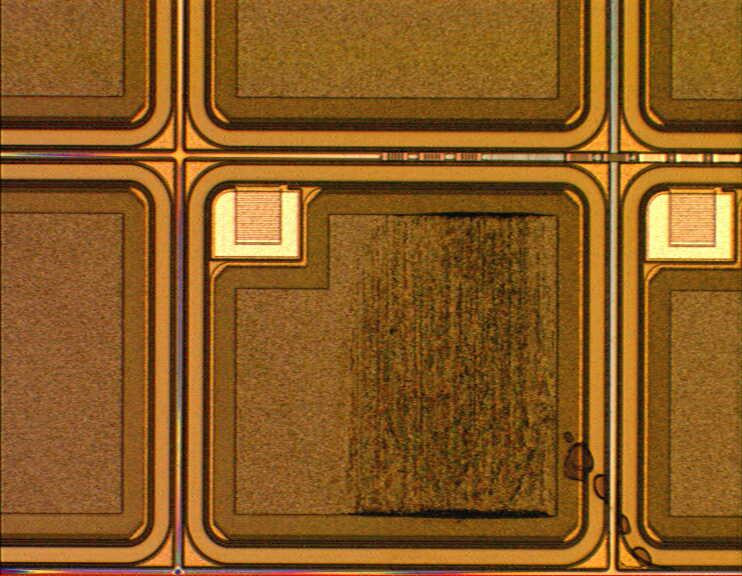SEZ BURNT: (319, 213, 653, 571)
